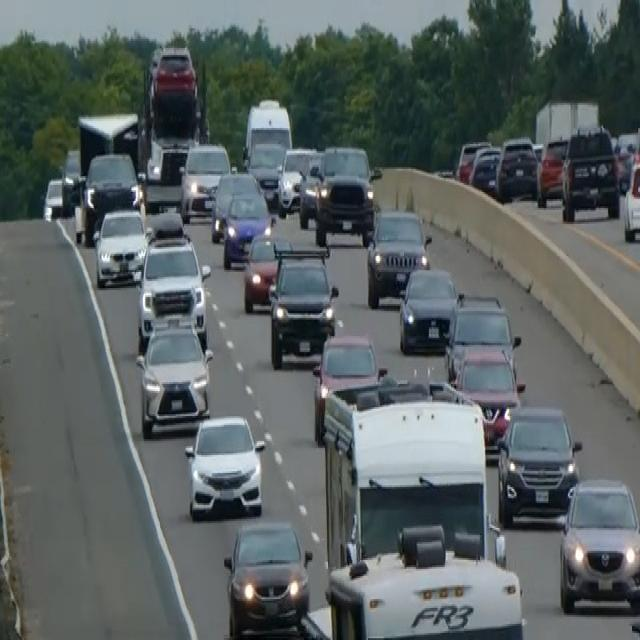bus: (299, 521, 527, 638)
car: (558, 475, 639, 613), (222, 518, 312, 638), (496, 402, 582, 526), (135, 318, 213, 438), (183, 413, 266, 519), (136, 231, 210, 347), (311, 330, 386, 444), (453, 343, 524, 452), (444, 292, 520, 382), (313, 144, 380, 245), (365, 206, 431, 308), (75, 149, 141, 240), (560, 124, 619, 220), (398, 265, 459, 354), (148, 41, 199, 133), (92, 204, 147, 288), (242, 227, 293, 313), (221, 188, 275, 268), (179, 140, 231, 220), (210, 167, 261, 242), (143, 138, 191, 212), (276, 144, 318, 215), (495, 135, 539, 201), (247, 139, 287, 206), (536, 135, 568, 206), (297, 151, 325, 228), (468, 144, 501, 196), (455, 137, 490, 185), (622, 153, 639, 242), (60, 146, 81, 213), (41, 176, 65, 220)
jeep: (266, 243, 339, 369)
lorry: (138, 41, 208, 204)
